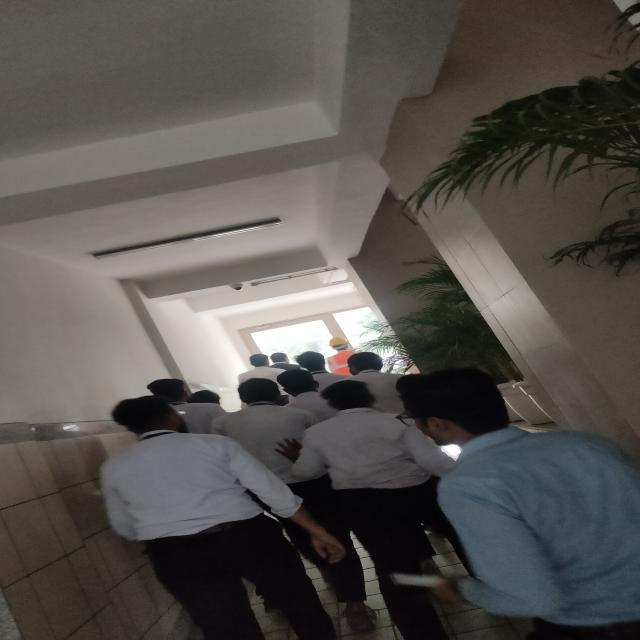unsafe: (383, 368, 640, 639), (92, 393, 332, 640), (304, 386, 445, 640)
